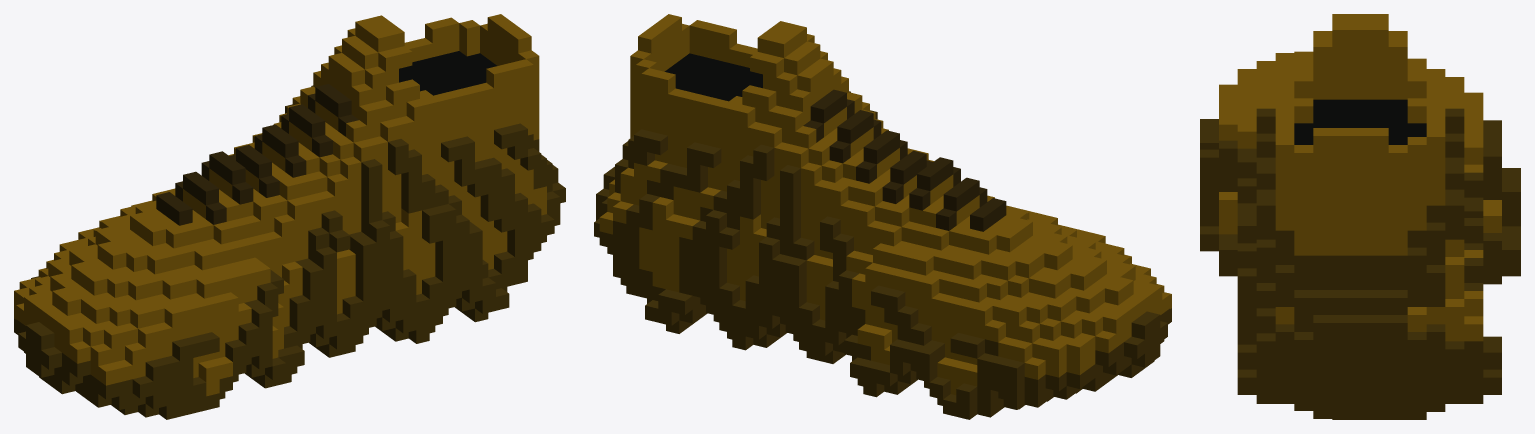
File: Coffee.fbx
3 renders of one model, left to right at view 1: azimuth 30°, elevation 25°; view 2: azimuth 150°, elevation 25°; view 3: azimuth 270°, elevation 25°, orthographic. The views are drawn at different scales.
Visible parts, largest first — view 1: Untitled; view 2: Untitled; view 3: Untitled.
Part boxes in pixels (x1,y1,x2,y2): Untitled: [14, 14, 565, 419]; Untitled: [594, 14, 1171, 419]; Untitled: [1200, 14, 1520, 419].
Size of the model in its own units: 390 by 200 by 170.
